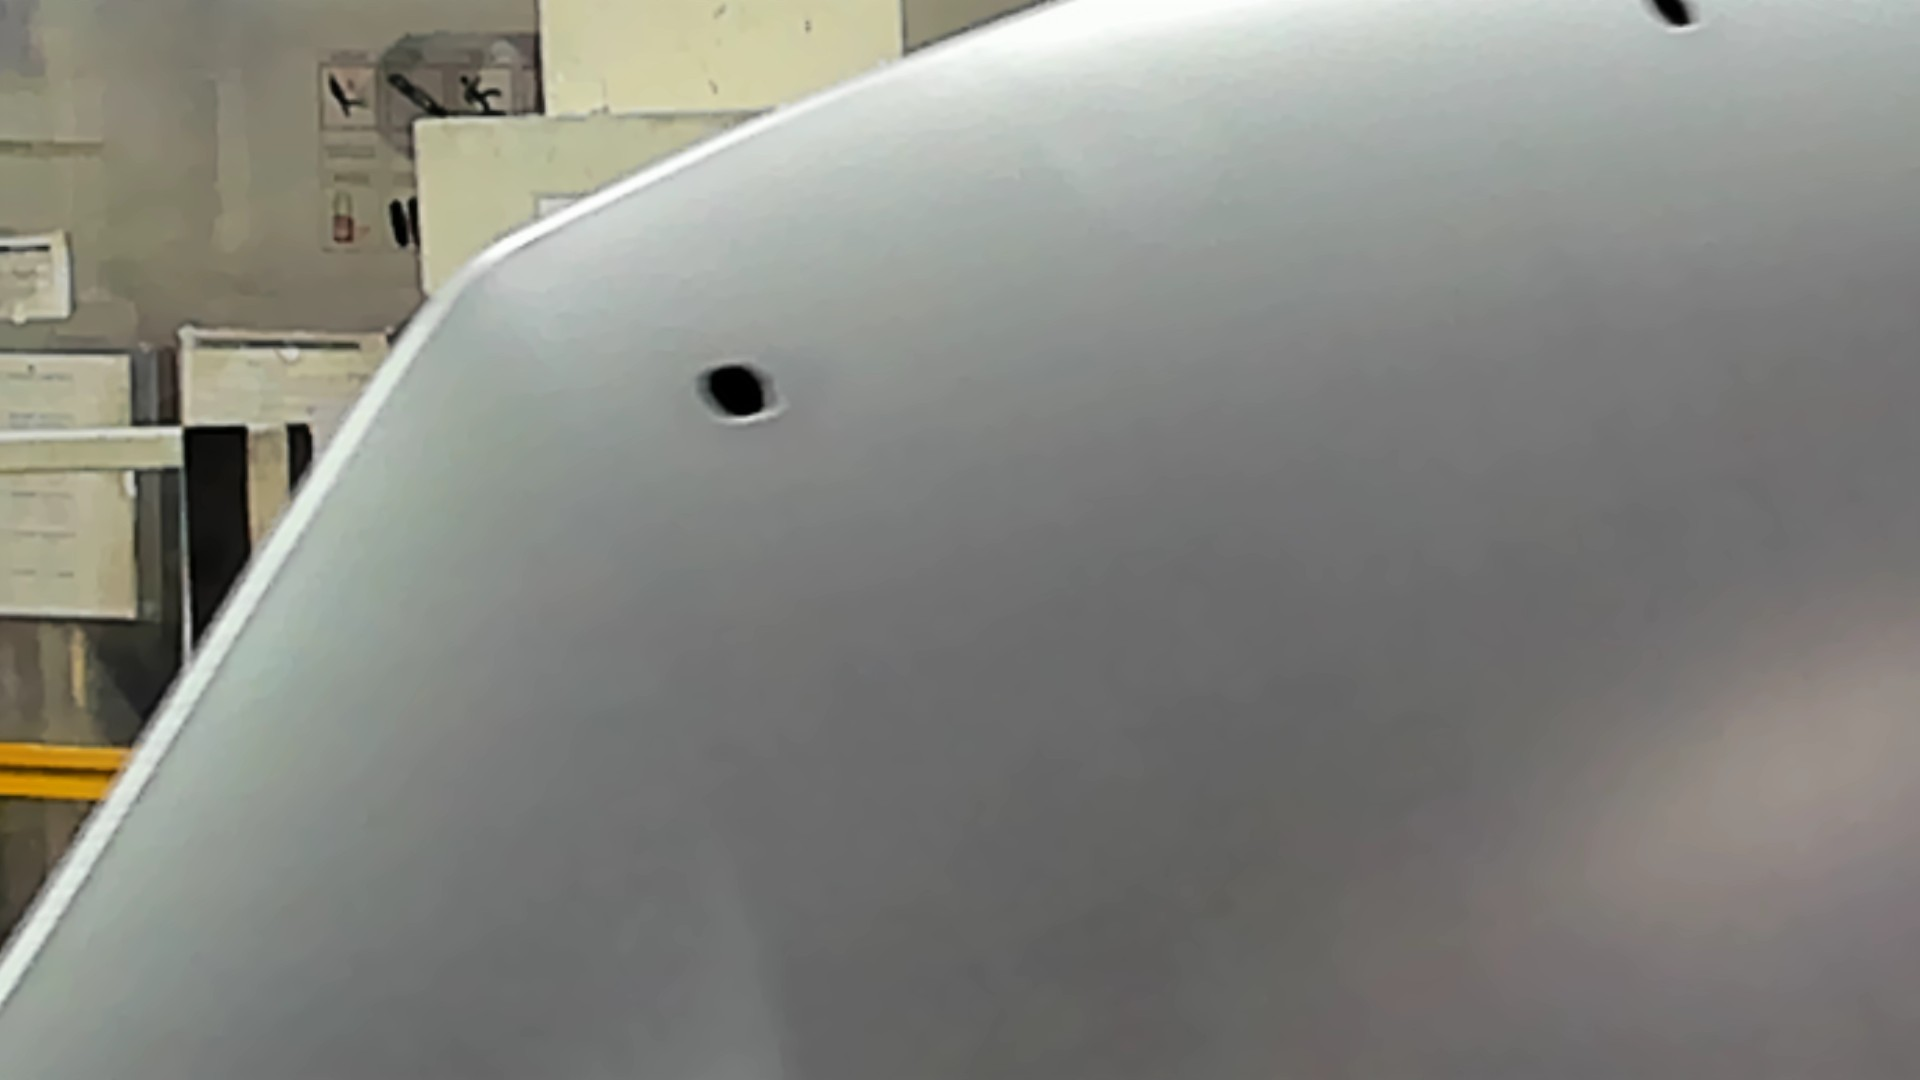amorfo: (687, 355, 791, 431), (1633, 1, 1716, 38)
